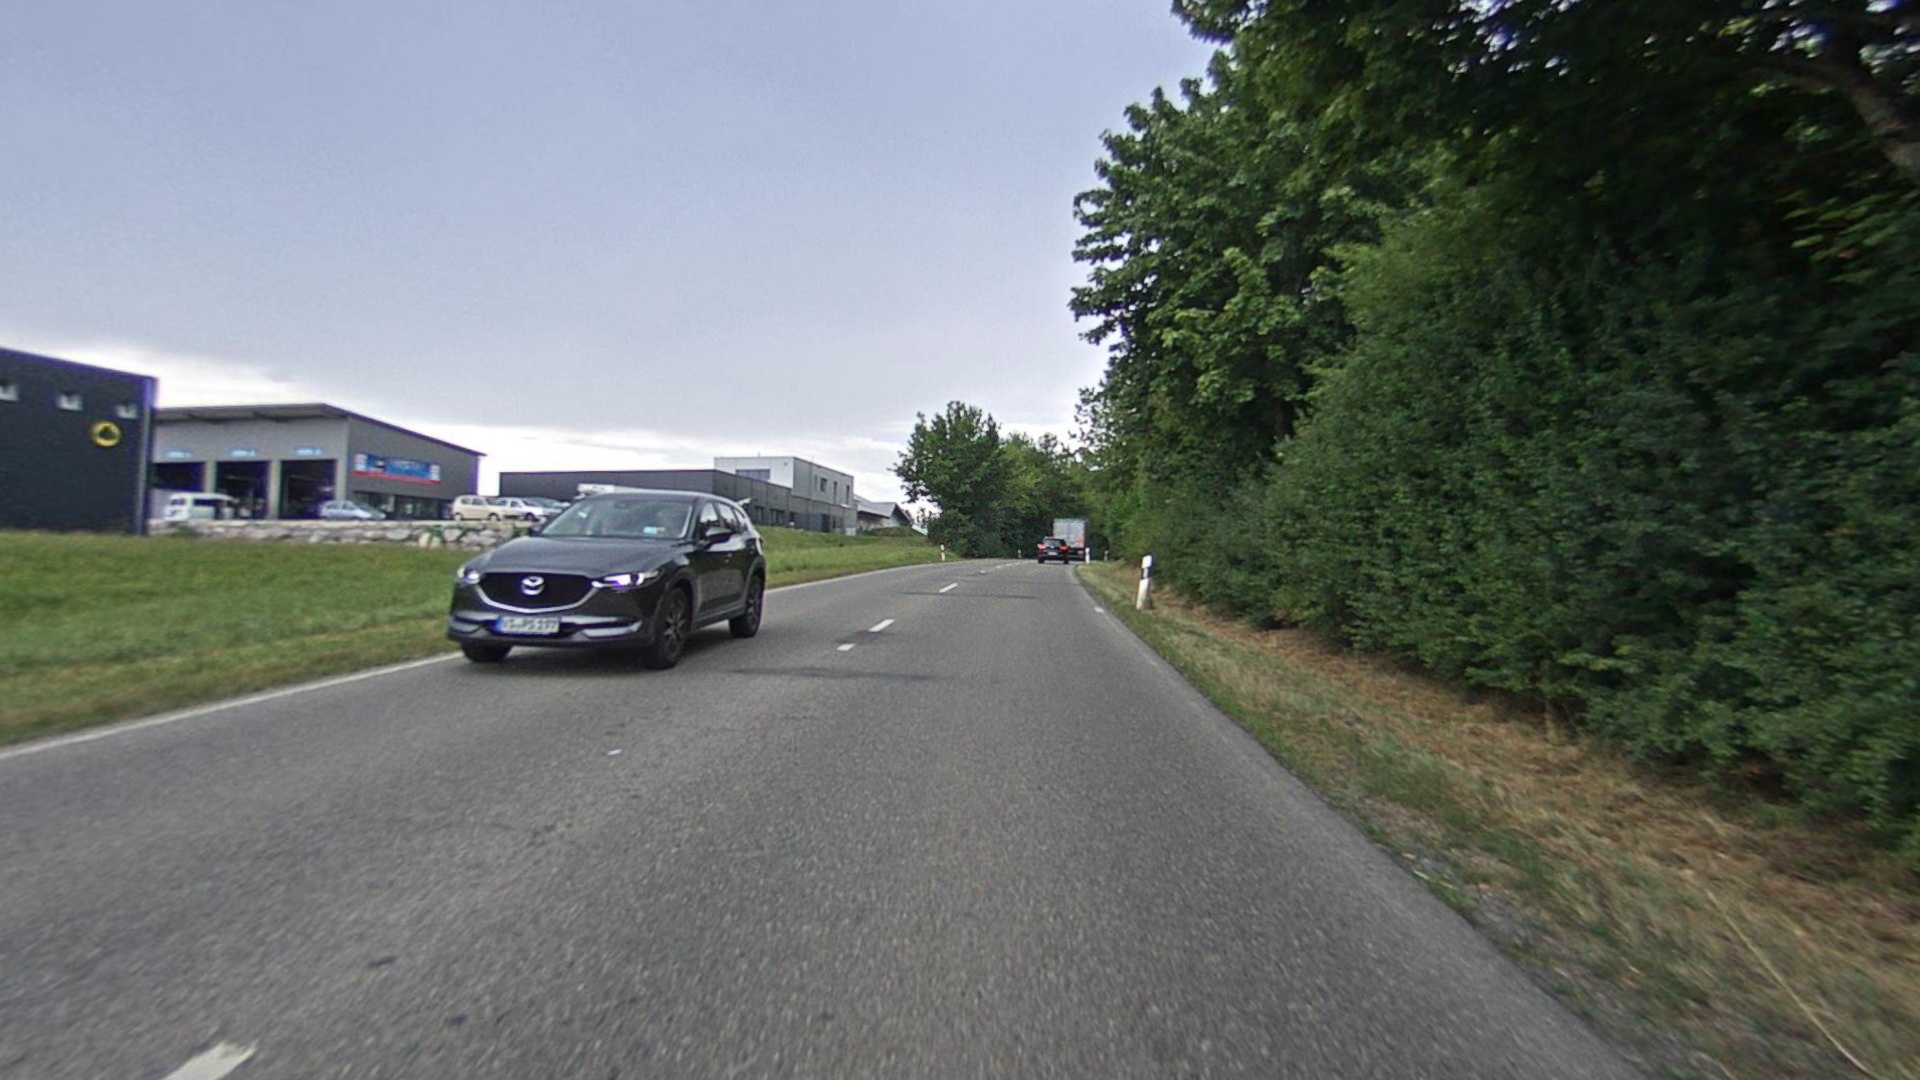car: (440, 487, 774, 673)
